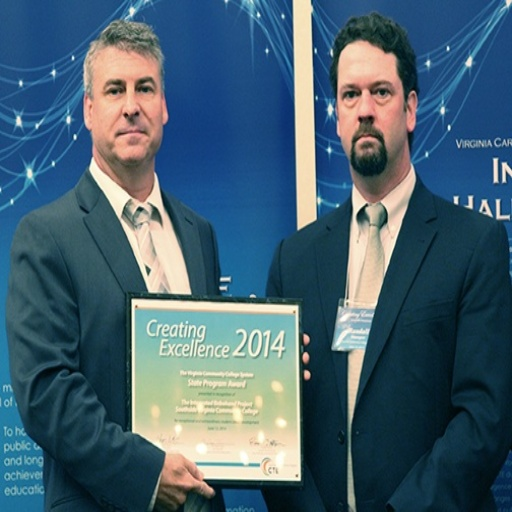hand: (150, 446, 202, 503)
